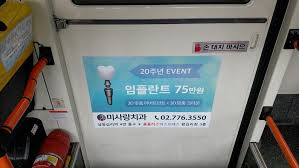in: (39, 2, 284, 163)
